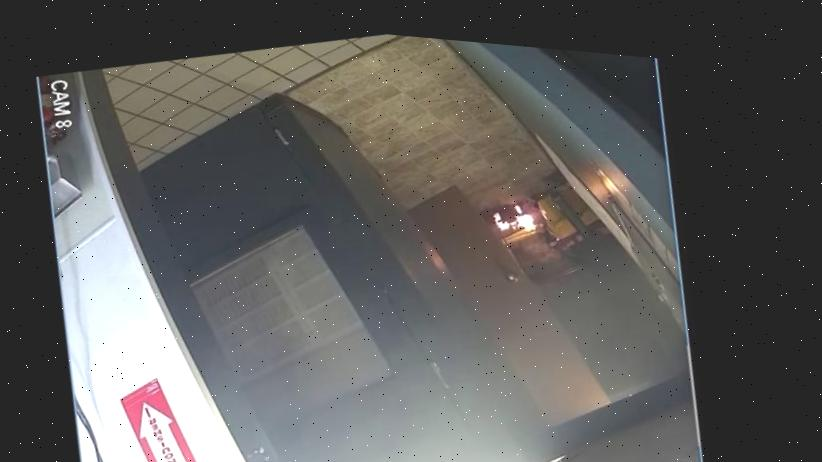fire: (461, 193, 574, 250)
